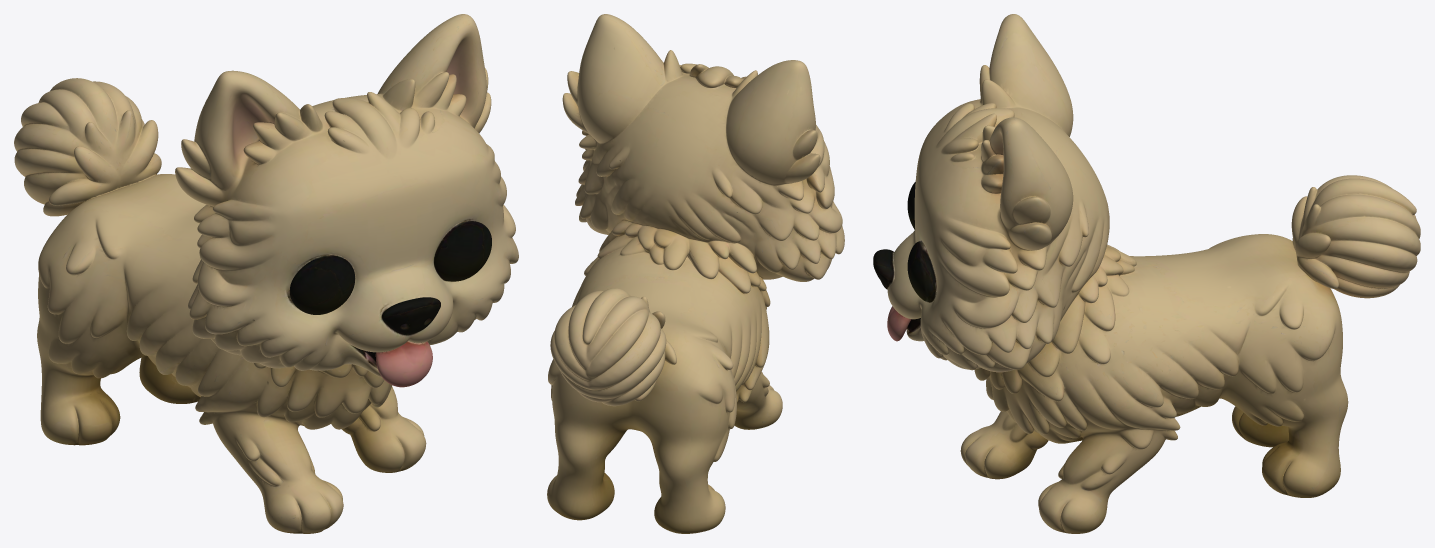
File: chiki_funko.glb
The picture shows the model from 3 angles, left to right: view 1: azimuth 30°, elevation 25°; view 2: azimuth 150°, elevation 25°; view 3: azimuth 270°, elevation 25°; orthographic projection. The views are drawn at different scales.
Parts seen in each view (by area): view 1: texture_pbr_v128; view 2: texture_pbr_v128; view 3: texture_pbr_v128.
Boxes of the visible parts, x1,y1,x2,y2 form: texture_pbr_v128: (14,14,518,533); texture_pbr_v128: (547,14,844,533); texture_pbr_v128: (873,14,1420,533).
Bounding box in the file's own units: 0.6602 × 0.8977 × 1.05.
1 material, 1 textured.
